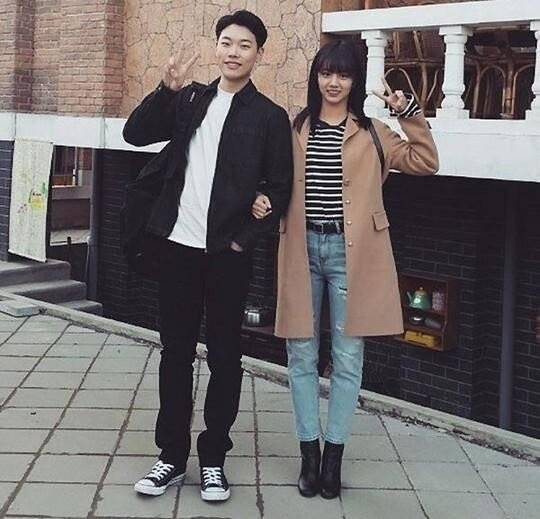people: (134, 11, 284, 503), (286, 42, 384, 497)
